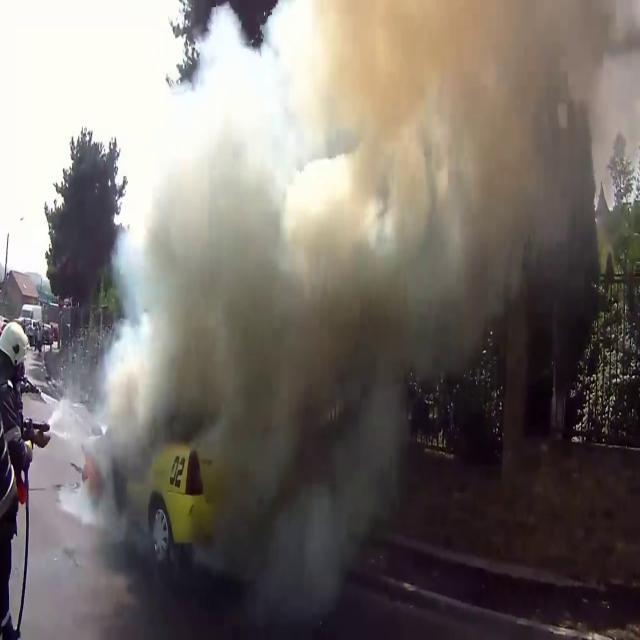Smoke: (66, 0, 610, 511)
